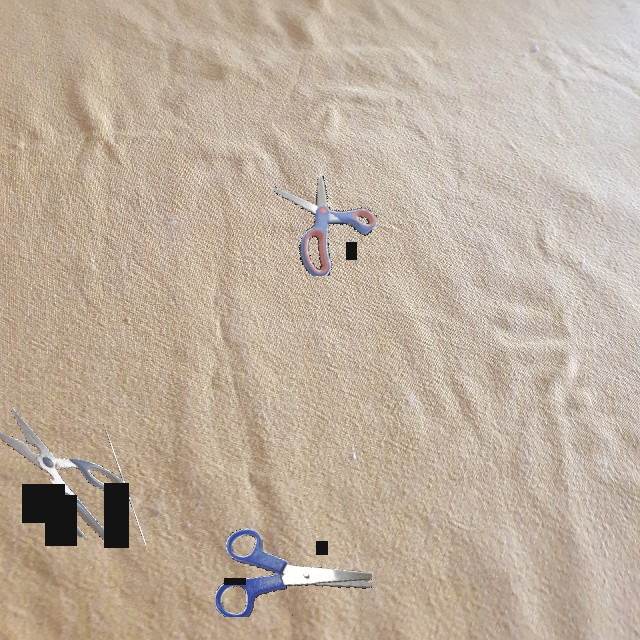scissors: (0, 407, 146, 548), (215, 528, 372, 617), (274, 174, 377, 276)
